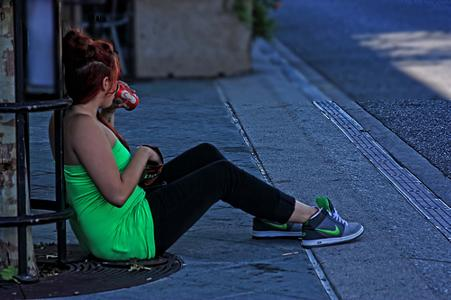person: (49, 27, 367, 266)
